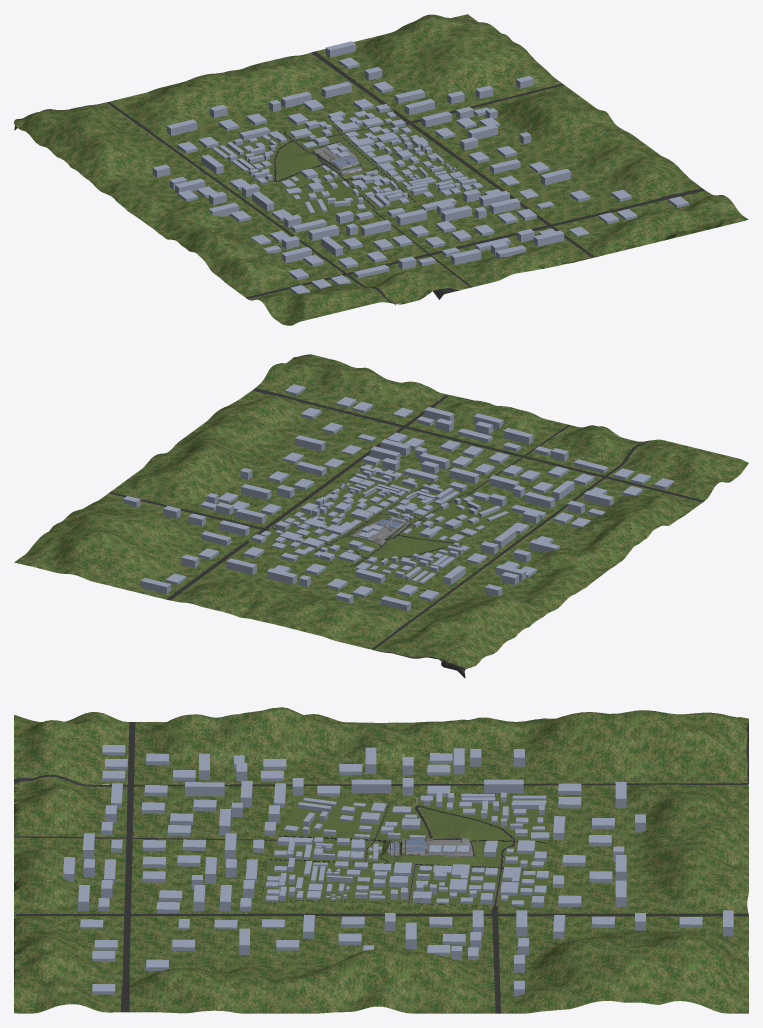
3 views of the same model, one above another, from view 1: azimuth 30°, elevation 25°; view 2: azimuth 150°, elevation 25°; view 3: azimuth 270°, elevation 25° (orthographic). The views are drawn at different scales.
Visible parts, largest first — view 1: Line084, dx02, Box049, Line08; view 2: Line084, dx02, Box049, Line08; view 3: Line084, dx02, Line08, Box049, Line083.
Part boxes in pixels (left/top/right/bottom): Line084: left=14, top=14, right=748, bottom=325; dx02: left=152, top=41, right=688, bottom=293; Box049: left=212, top=104, right=482, bottom=212; Line08: left=211, top=105, right=486, bottom=215; Line084: left=14, top=354, right=748, bottom=678; dx02: left=123, top=384, right=674, bottom=611; Box049: left=251, top=464, right=508, bottom=583; Line08: left=244, top=464, right=514, bottom=584; Line084: left=14, top=707, right=748, bottom=1013; dx02: left=63, top=745, right=733, bottom=996; Line08: left=262, top=795, right=547, bottom=911; Box049: left=265, top=792, right=549, bottom=907; Line083: left=261, top=797, right=543, bottom=911.
Bounding box in the file's own units: 625 × 43.82 × 665.
Materials: 37 (26 with a texture image).
